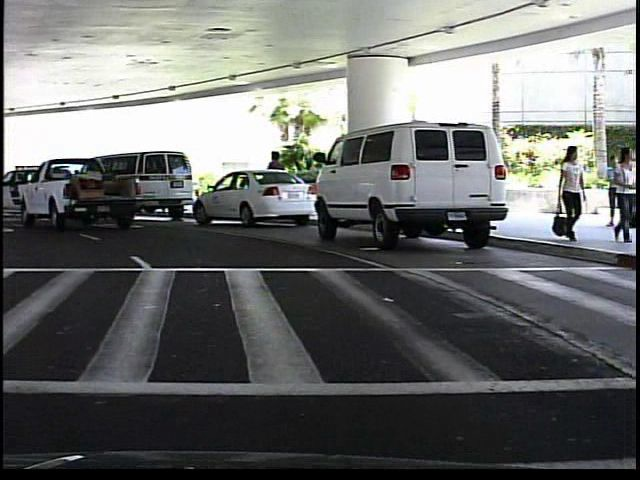person: (552, 143, 585, 243), (609, 145, 635, 245), (603, 155, 626, 232), (266, 148, 292, 214)
